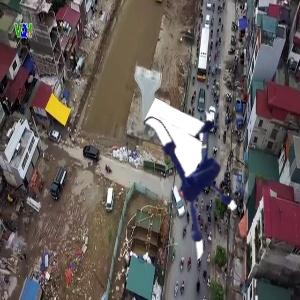drone: (122, 113, 266, 257)
